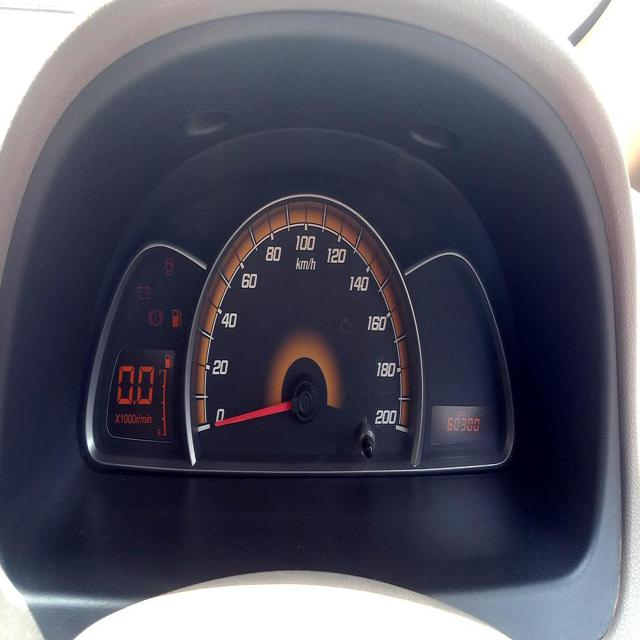odometer: (445, 414, 480, 434)
